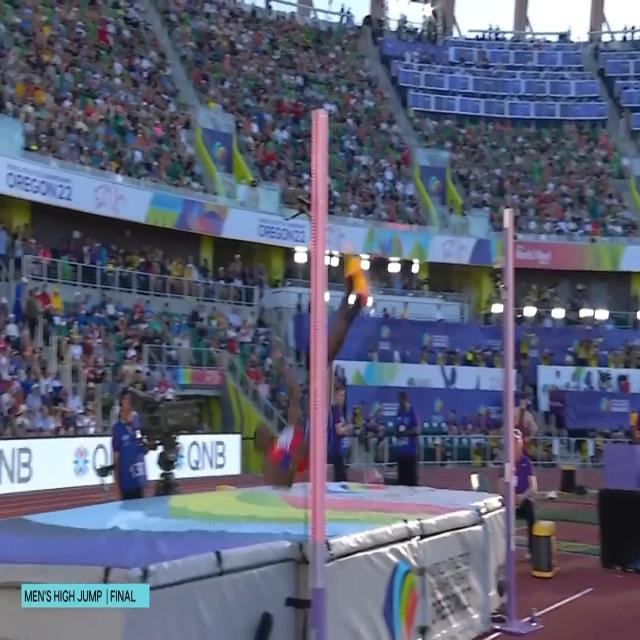land: (254, 255, 366, 492)
